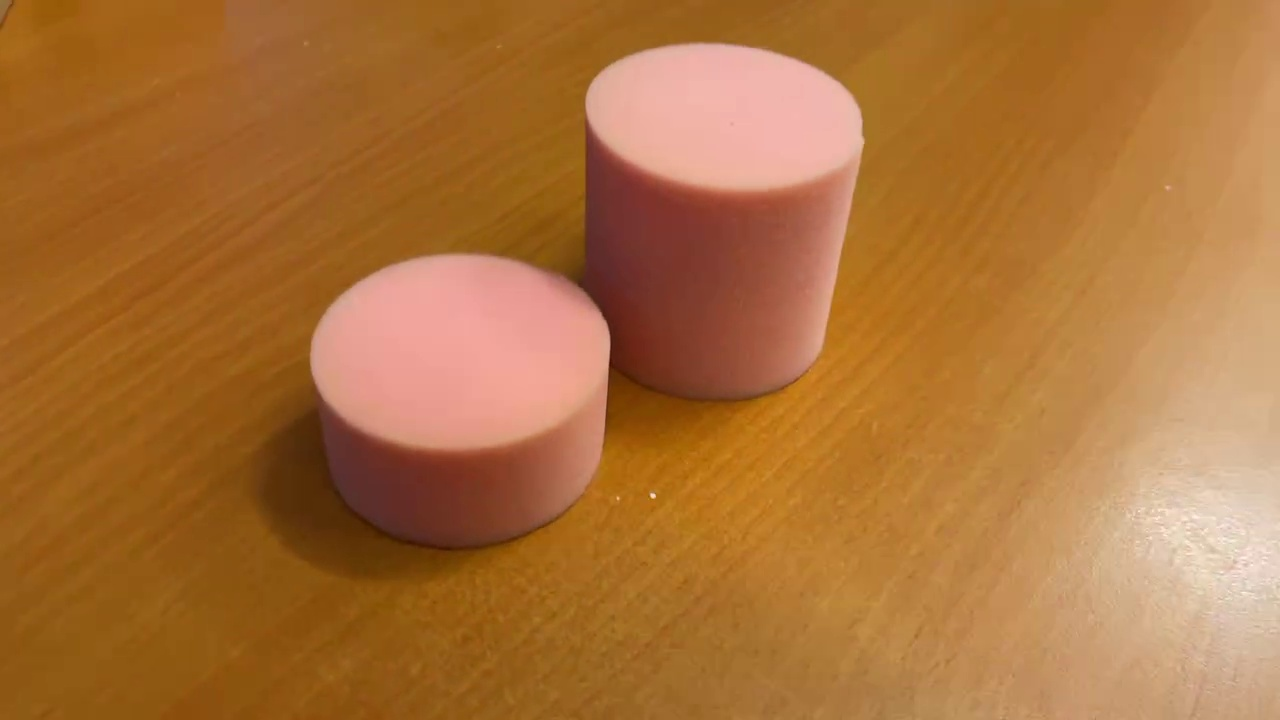Clyinder_short: (300, 248, 620, 557)
Cylinder: (577, 40, 873, 405)
